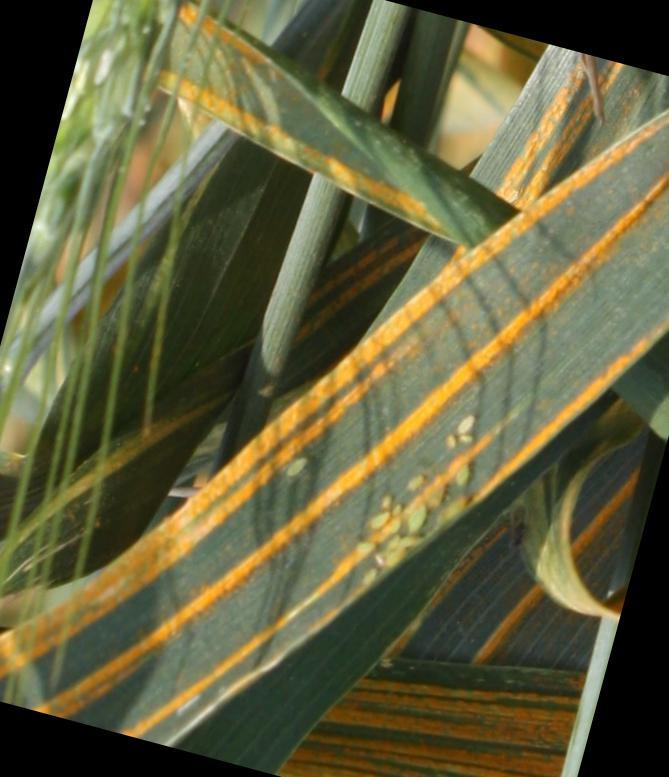Wheat: (14, 192, 648, 726), (104, 42, 450, 250)
